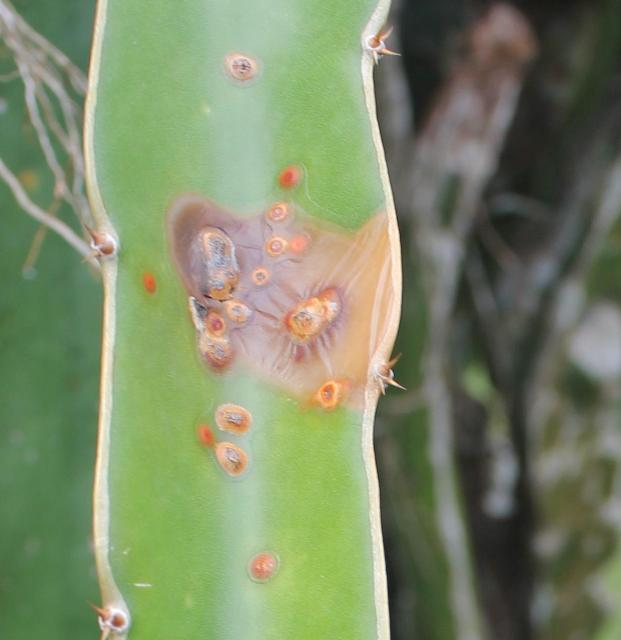stemcanker: (86, 3, 401, 640)
